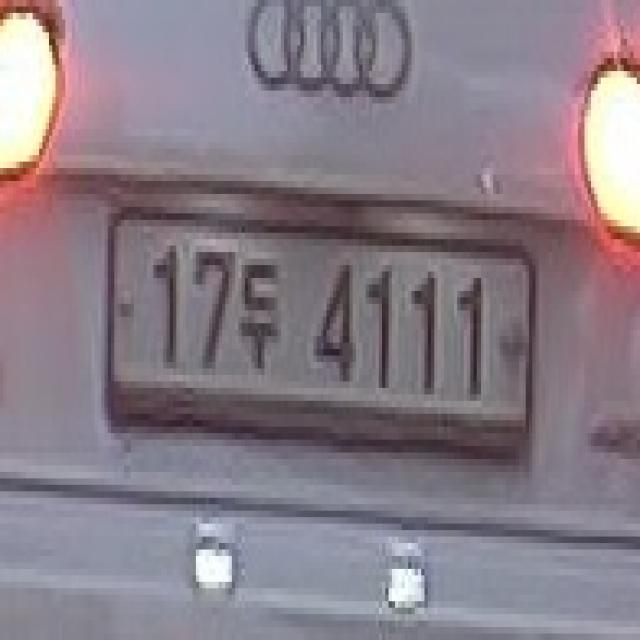1: (408, 259, 448, 407), (362, 252, 398, 401), (454, 265, 490, 414), (150, 233, 183, 381)
4: (310, 252, 359, 388)
7: (189, 239, 235, 388)
du: (235, 246, 281, 388)
license_plate: (98, 181, 539, 472)
